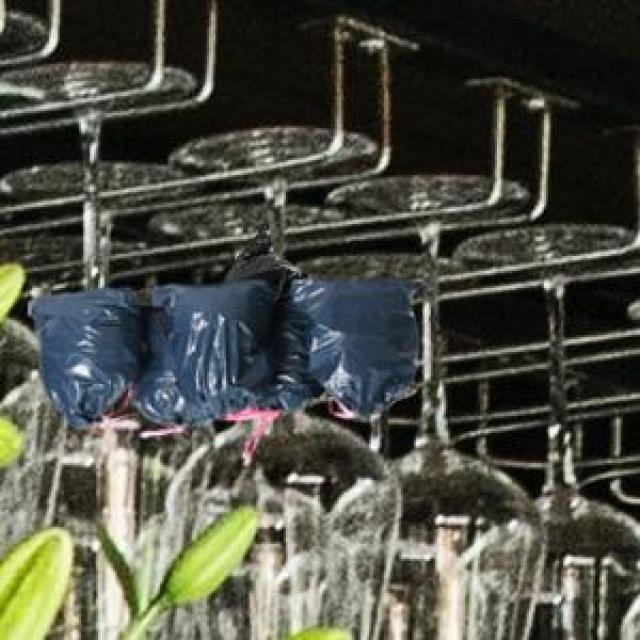Trashbag: (289, 274, 436, 418), (23, 281, 158, 433), (153, 274, 286, 419)
